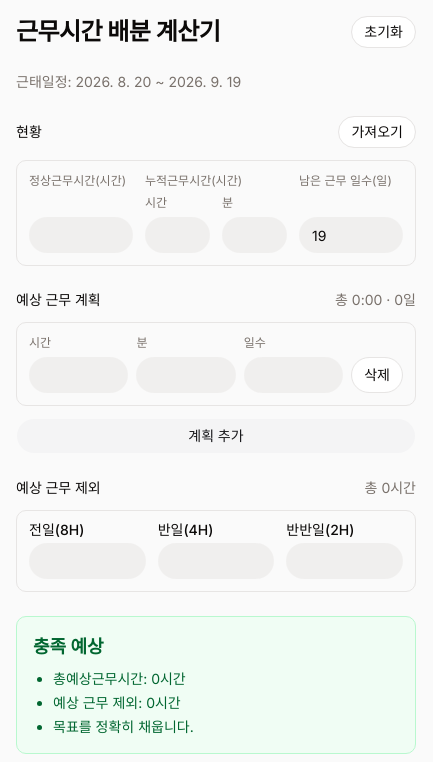
Test: 가져오기가 성공하면 근무시간을 반영하고 남은 근무 일수는 유지한다
The width and height of the screenshot is (433, 762).
Step 1. Click the button "가져오기" → (377, 132), box top-left (338, 116), bottom-right (416, 148)
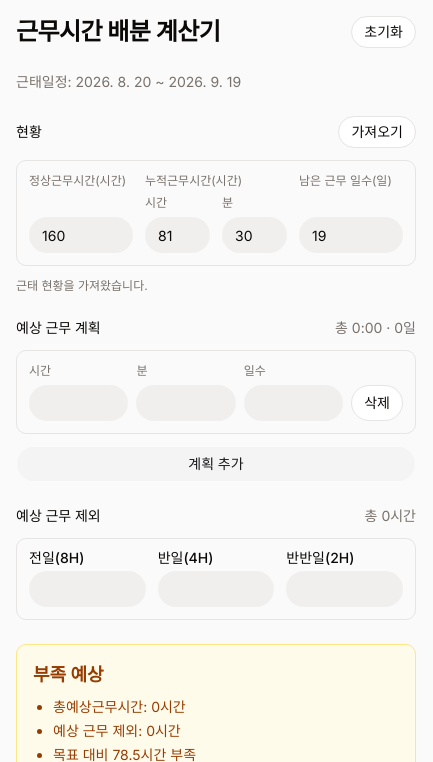
Now the number field labelled "정상근무시간(시간)" holds "160", box top-left (29, 217), bottom-right (133, 253)
Now the number field named "누적근무시간 시간" holds "81", box top-left (145, 217), bottom-right (210, 253)
Now the number field named "누적근무시간 분" holds "30", box top-left (222, 217), bottom-right (287, 253)
